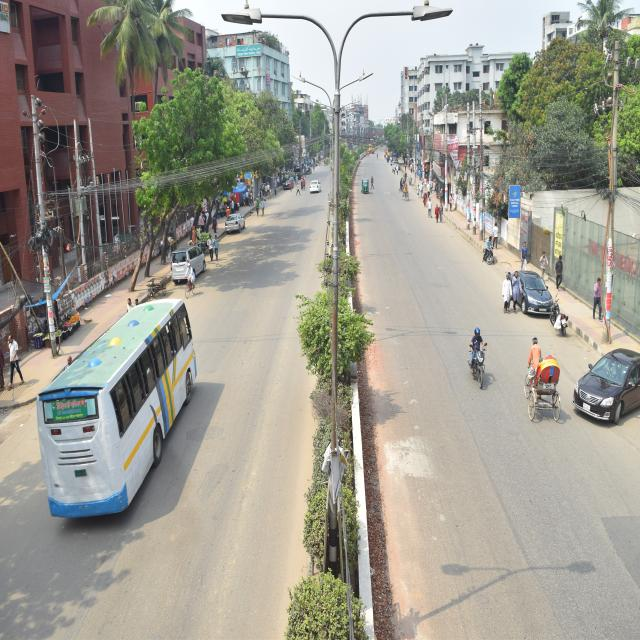bus: (31, 295, 202, 529)
car: (569, 338, 640, 440), (504, 260, 554, 321), (294, 167, 304, 179), (305, 165, 313, 175)
microbus: (172, 242, 212, 296), (225, 212, 248, 235), (309, 174, 322, 194), (281, 173, 294, 193)
motorbike: (466, 339, 494, 392), (544, 289, 572, 339), (482, 243, 496, 266)
